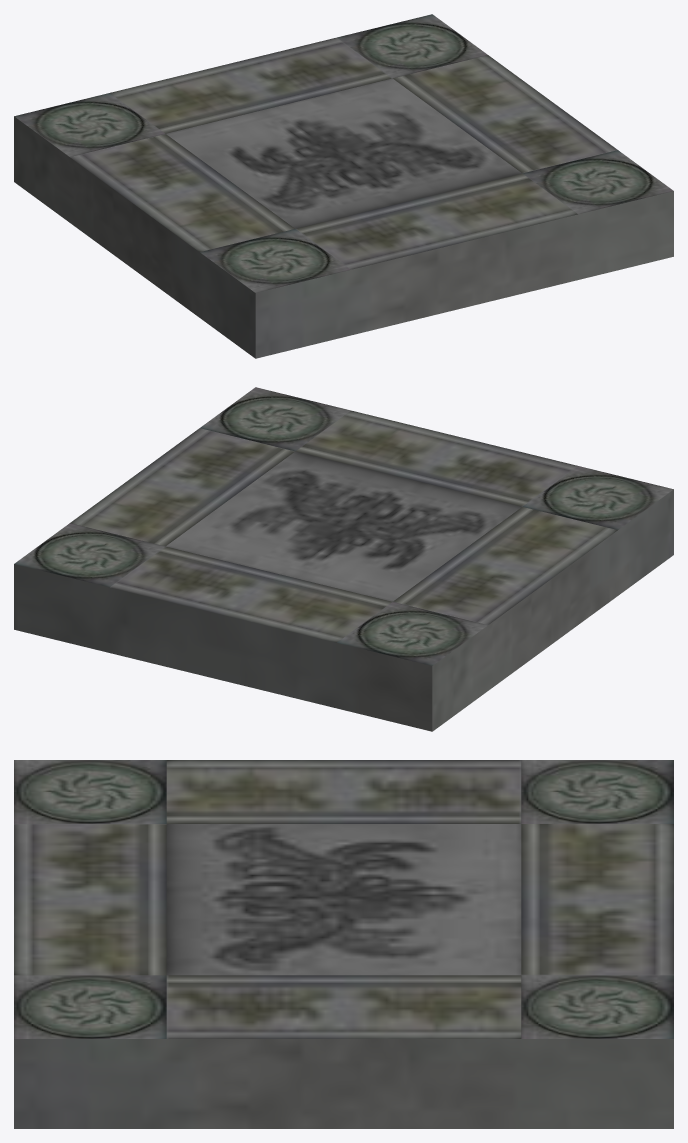
The model's file is sd_floor_small_trim_02.glb.
3 views of the same model, one above another, from view 1: azimuth 30°, elevation 25°; view 2: azimuth 150°, elevation 25°; view 3: azimuth 270°, elevation 25° (orthographic). The views are drawn at different scales.
Parts seen in each view (by area): view 1: floor_small_trim_02; view 2: floor_small_trim_02; view 3: floor_small_trim_02.
Part boxes in pixels (x1=…): floor_small_trim_02: x1=14, y1=14, x2=673, y2=358; floor_small_trim_02: x1=14, y1=387, x2=673, y2=731; floor_small_trim_02: x1=14, y1=760, x2=673, y2=1128.
Size of the model in its own units: 2 by 0.3001 by 2.
1 material, 1 textured.
